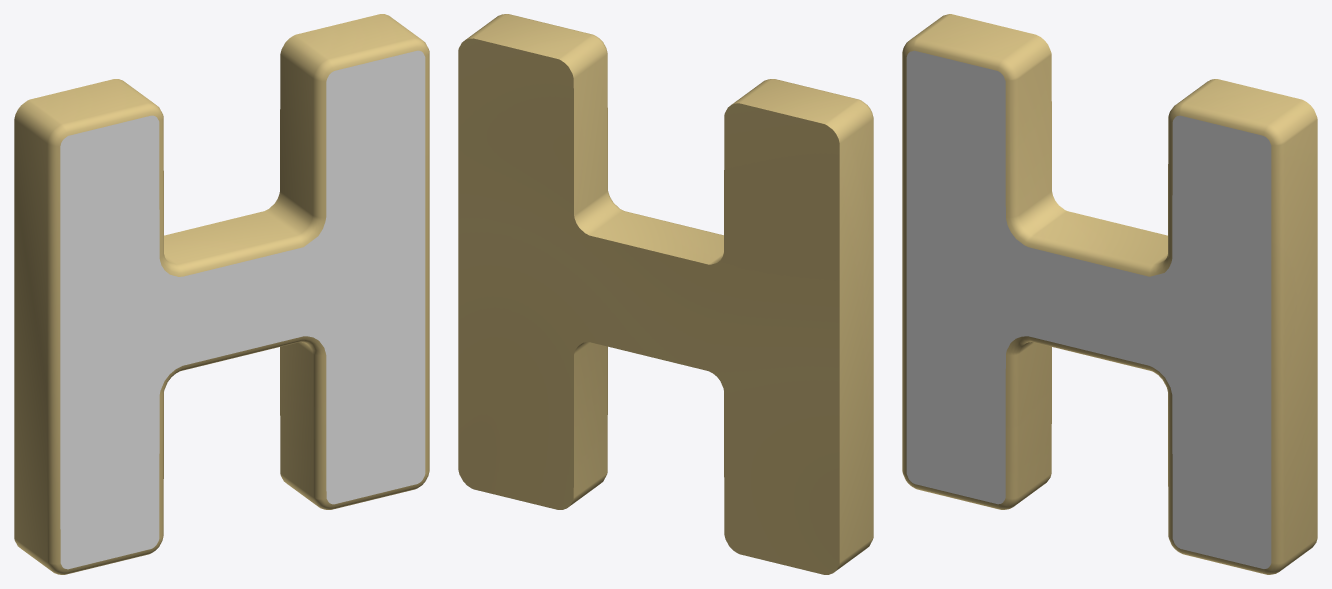
Rendered from LettersLightUp02_H.FBX.
3 views of the same model, side by side, from view 1: azimuth 30°, elevation 25°; view 2: azimuth 150°, elevation 25°; view 3: azimuth 330°, elevation 25° (orthographic).
Parts seen in each view (by area): view 1: LettersLightUp02_H; view 2: LettersLightUp02_H; view 3: LettersLightUp02_H.
Part boxes in pixels (<box>): LettersLightUp02_H: <box>14,14,429,574</box>; LettersLightUp02_H: <box>458,14,873,574</box>; LettersLightUp02_H: <box>902,14,1317,574</box>.
Size of what is drawn, in the model's own units: 0.5309 by 0.5996 by 0.0912.
